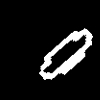chain: (39, 29, 92, 79)
